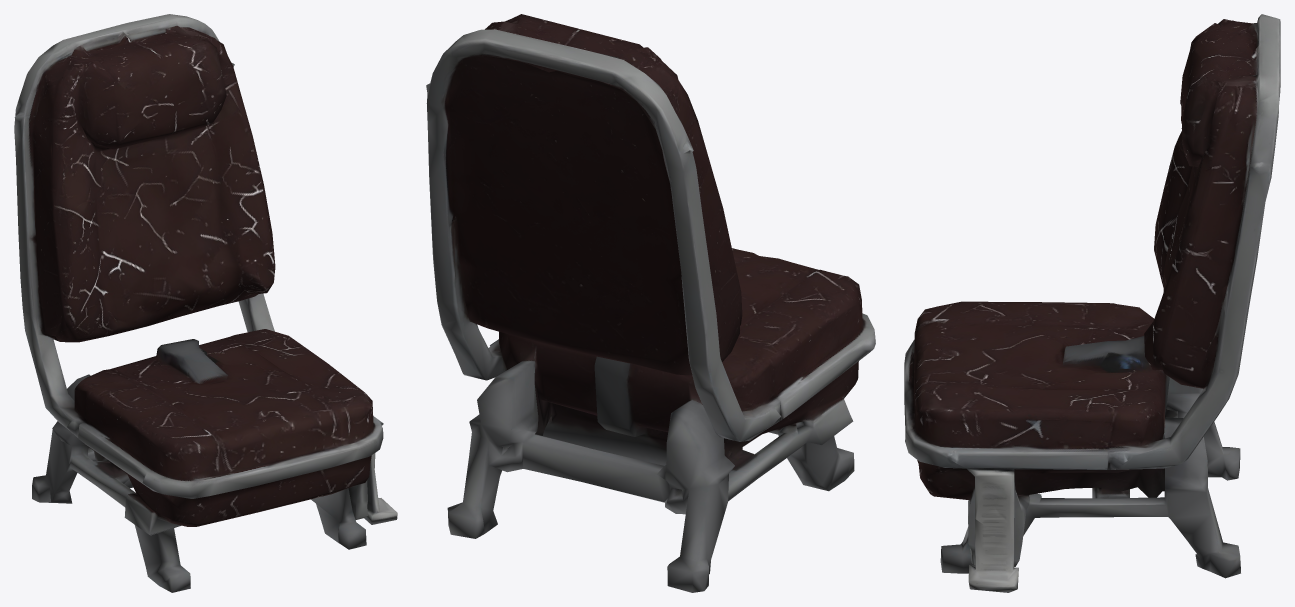
File: shuttle_pilot_seat.glb
The picture shows the model from 3 angles, left to right: view 1: azimuth 30°, elevation 25°; view 2: azimuth 150°, elevation 25°; view 3: azimuth 270°, elevation 25°; orthographic projection. The views are drawn at different scales.
Visible parts, largest first — view 1: tripo_node_4b9de2dc-6a63-4709-b035-1c736c3ec45b; view 2: tripo_node_4b9de2dc-6a63-4709-b035-1c736c3ec45b; view 3: tripo_node_4b9de2dc-6a63-4709-b035-1c736c3ec45b.
Part boxes in pixels (<box>): tripo_node_4b9de2dc-6a63-4709-b035-1c736c3ec45b: <box>14,14,397,592</box>; tripo_node_4b9de2dc-6a63-4709-b035-1c736c3ec45b: <box>426,14,875,592</box>; tripo_node_4b9de2dc-6a63-4709-b035-1c736c3ec45b: <box>904,14,1280,592</box>.
Size of the model in its own units: 0.6387 by 1 by 0.7175.
1 material, 1 textured.
